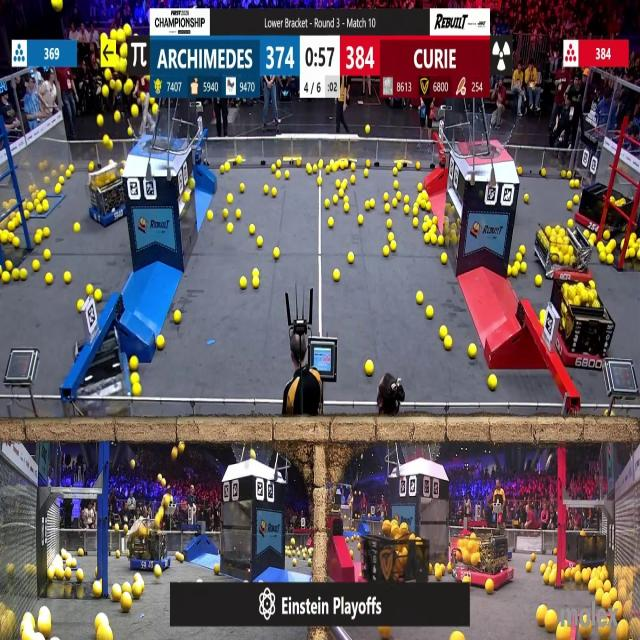ball_airborne: (117, 59, 126, 72), (125, 80, 134, 93), (155, 512, 162, 528), (53, 0, 63, 11), (118, 44, 126, 56), (102, 86, 110, 98), (132, 105, 140, 117), (123, 25, 130, 37), (178, 444, 185, 456), (105, 69, 112, 80), (114, 110, 120, 122), (172, 448, 178, 460), (99, 31, 105, 43), (115, 80, 122, 90), (98, 114, 104, 125), (165, 494, 171, 505), (110, 30, 116, 41), (140, 93, 146, 103), (250, 450, 256, 460), (160, 506, 165, 518), (131, 460, 137, 470), (103, 135, 109, 144), (107, 141, 113, 150), (129, 128, 134, 138), (152, 104, 157, 114), (159, 472, 165, 480), (150, 98, 156, 104), (163, 480, 167, 488)
ball_ground: (37, 610, 51, 636), (544, 612, 556, 633), (536, 608, 546, 628), (120, 594, 130, 612), (618, 622, 628, 640), (94, 627, 107, 640), (599, 626, 610, 640), (94, 583, 103, 599), (112, 586, 121, 602), (133, 585, 143, 599), (131, 356, 139, 371), (489, 376, 497, 391), (364, 360, 372, 375), (557, 628, 567, 640), (434, 565, 442, 580), (158, 337, 166, 351), (486, 582, 494, 596), (133, 384, 142, 396), (602, 596, 610, 609), (0, 232, 8, 245), (426, 306, 433, 320), (468, 345, 475, 359), (596, 591, 603, 605), (2, 272, 10, 284), (445, 339, 453, 351), (174, 311, 181, 324), (64, 273, 72, 284), (76, 569, 84, 580), (452, 632, 463, 640), (627, 248, 635, 259), (417, 291, 424, 303), (441, 326, 448, 338), (95, 290, 102, 302), (11, 270, 18, 282), (589, 582, 596, 594), (549, 572, 556, 584), (18, 270, 26, 280), (132, 374, 140, 384), (122, 584, 130, 594), (45, 274, 52, 285), (383, 246, 390, 257), (12, 238, 19, 249), (335, 270, 341, 282), (252, 278, 259, 288), (154, 566, 161, 576), (603, 232, 610, 242), (5, 262, 12, 272), (606, 254, 613, 264), (177, 553, 184, 563), (183, 190, 190, 200), (342, 178, 349, 188), (27, 202, 34, 212), (274, 248, 280, 259), (348, 252, 354, 263), (250, 223, 256, 234), (241, 278, 247, 289), (76, 301, 82, 312), (542, 573, 548, 584), (66, 568, 72, 579), (604, 582, 610, 593), (363, 201, 370, 210), (539, 564, 546, 573), (595, 240, 602, 249), (36, 205, 43, 214), (421, 191, 428, 200), (572, 194, 579, 203), (363, 126, 370, 135), (535, 276, 541, 286), (74, 222, 80, 232), (34, 262, 40, 272), (226, 222, 232, 232), (256, 238, 262, 248), (442, 253, 448, 263), (44, 250, 50, 260), (226, 192, 232, 202), (524, 192, 530, 202), (600, 252, 606, 262), (522, 264, 528, 274), (327, 218, 333, 228), (390, 242, 396, 252), (88, 284, 94, 294), (214, 564, 220, 574), (424, 234, 430, 244), (36, 235, 42, 245), (439, 236, 445, 246), (506, 268, 512, 278), (526, 562, 532, 572), (42, 202, 48, 212), (413, 206, 419, 216), (90, 163, 96, 173), (25, 210, 31, 220), (516, 253, 523, 261), (252, 270, 259, 278), (607, 241, 614, 249), (403, 206, 409, 215), (43, 229, 49, 238), (388, 233, 394, 242), (56, 184, 62, 193), (513, 269, 519, 278), (413, 218, 419, 227), (520, 246, 526, 255), (339, 187, 345, 196), (237, 210, 242, 220), (222, 209, 227, 219), (358, 215, 363, 225), (431, 236, 436, 246), (395, 191, 401, 199), (276, 172, 282, 180), (392, 200, 398, 208), (539, 311, 545, 319), (540, 170, 546, 178), (316, 177, 322, 185), (566, 171, 572, 179), (284, 171, 290, 179), (350, 164, 356, 172), (590, 280, 596, 288), (324, 167, 330, 175), (208, 211, 213, 220), (567, 202, 572, 211), (324, 200, 329, 209), (265, 184, 270, 193), (345, 204, 350, 213), (387, 219, 392, 228), (423, 222, 428, 231), (308, 166, 313, 175), (385, 204, 390, 213), (224, 164, 229, 173), (424, 215, 430, 222), (392, 169, 398, 176), (331, 195, 337, 202), (384, 192, 389, 200), (418, 183, 423, 191), (403, 194, 408, 202), (531, 554, 536, 562), (369, 200, 374, 208), (426, 202, 430, 212), (363, 170, 368, 178), (416, 164, 421, 172), (431, 224, 436, 232), (393, 180, 398, 188), (351, 176, 356, 184), (60, 176, 65, 184), (516, 166, 521, 174), (631, 234, 636, 242), (277, 162, 282, 170), (344, 194, 349, 202), (574, 180, 579, 188), (241, 183, 245, 192), (273, 187, 277, 196), (568, 219, 572, 228), (635, 249, 639, 258), (432, 217, 437, 224), (78, 550, 83, 557), (562, 171, 566, 179), (292, 560, 296, 568), (220, 166, 224, 174), (338, 180, 342, 188), (70, 163, 74, 171), (570, 180, 574, 188), (296, 161, 300, 168), (66, 172, 70, 178), (119, 553, 123, 559), (554, 546, 557, 554)
goal: (460, 118, 517, 158), (130, 115, 187, 152)
robot_blue: (64, 329, 124, 415), (88, 166, 128, 227), (127, 527, 171, 572)
robot_red: (552, 286, 614, 370), (450, 527, 516, 590), (360, 514, 413, 580), (535, 223, 590, 282), (578, 173, 608, 234)
